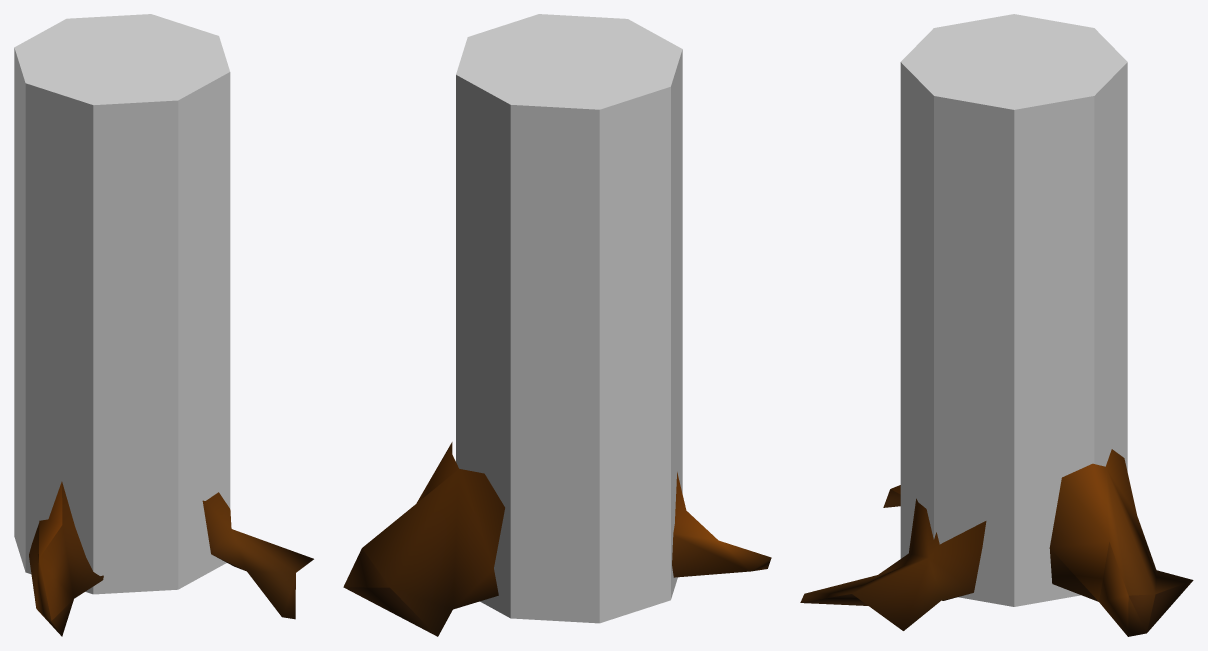
Rendered from Treebottom1.fbx.
3 renders of one model, left to right at view 1: azimuth 30°, elevation 25°; view 2: azimuth 150°, elevation 25°; view 3: azimuth 270°, elevation 25°, orthographic. The views are drawn at different scales.
Parts seen in each view (by area): view 1: TreeBottom1_Colliders; view 2: TreeBottom1_Colliders; view 3: TreeBottom1_Colliders.
Boxes of the visible parts, x1,y1,x2,y2 form: TreeBottom1_Colliders: [14, 14, 313, 636]; TreeBottom1_Colliders: [343, 14, 771, 636]; TreeBottom1_Colliders: [800, 14, 1193, 636].
Bounding box in the file's own units: 304 × 508 × 357.
